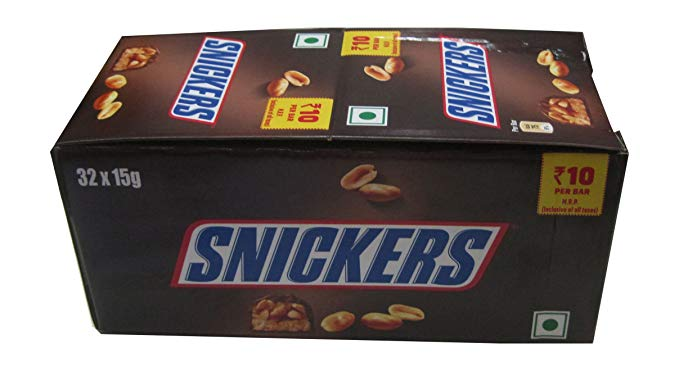snickers: (184, 225, 490, 283), (184, 225, 496, 281), (172, 38, 241, 118), (172, 39, 241, 118), (443, 39, 493, 123)
